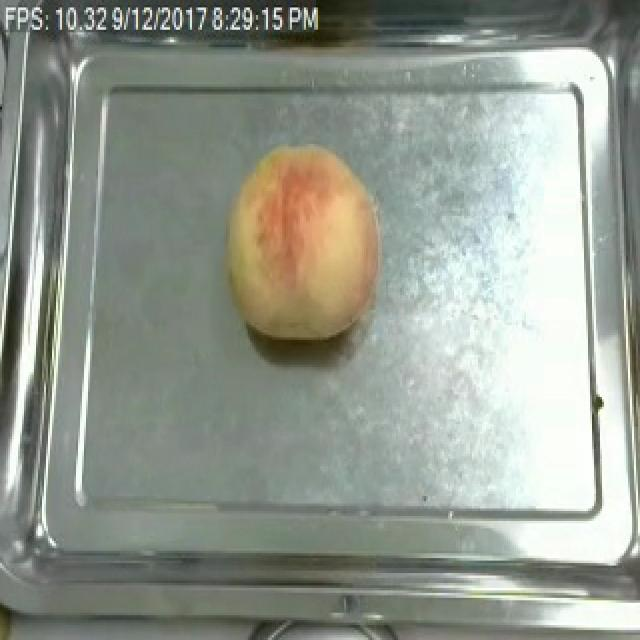Fruit: (214, 136, 390, 348)
